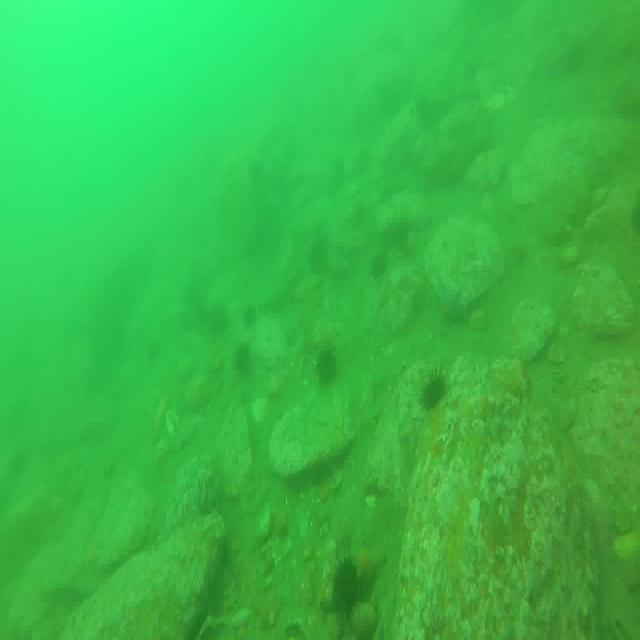echinus: (332, 553, 363, 608), (314, 338, 340, 385), (419, 371, 449, 408), (235, 338, 255, 375)
starfish: (434, 282, 467, 328)
